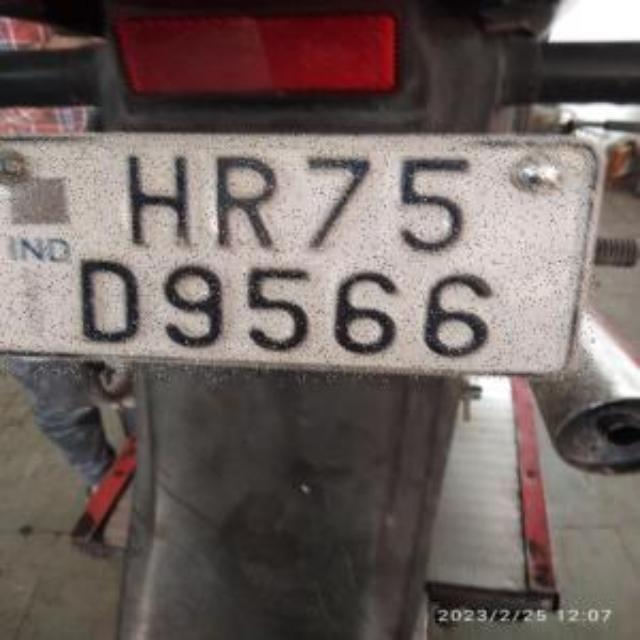License Plate: (1, 132, 600, 376)
